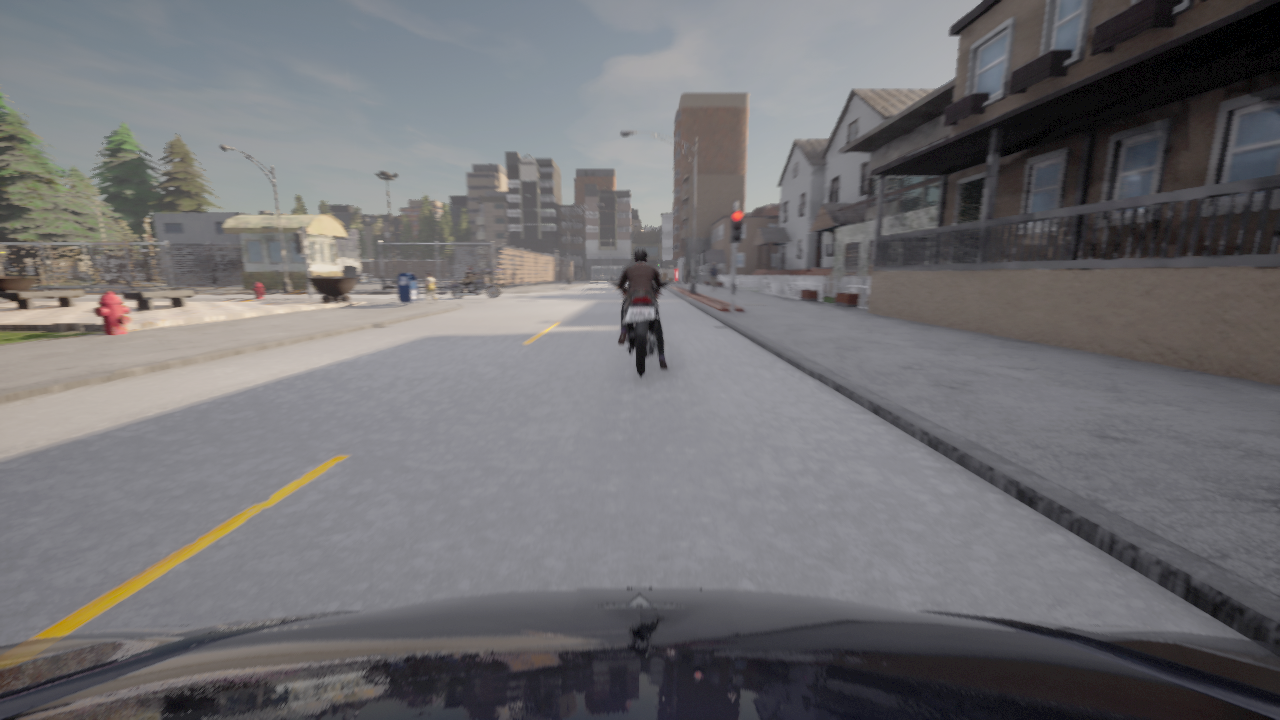cyclist: (0, 588, 1279, 719), (611, 282, 670, 378), (449, 275, 500, 298), (461, 270, 508, 285), (483, 268, 510, 278), (505, 267, 519, 283), (520, 272, 535, 281), (523, 269, 545, 274), (73, 273, 86, 278), (118, 278, 129, 283), (70, 272, 85, 275), (537, 280, 539, 281)
pedestrian: (426, 271, 437, 303), (709, 261, 718, 292)
